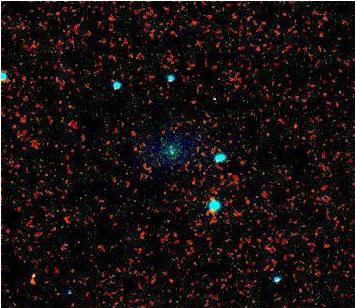star: (159, 131, 189, 161)
